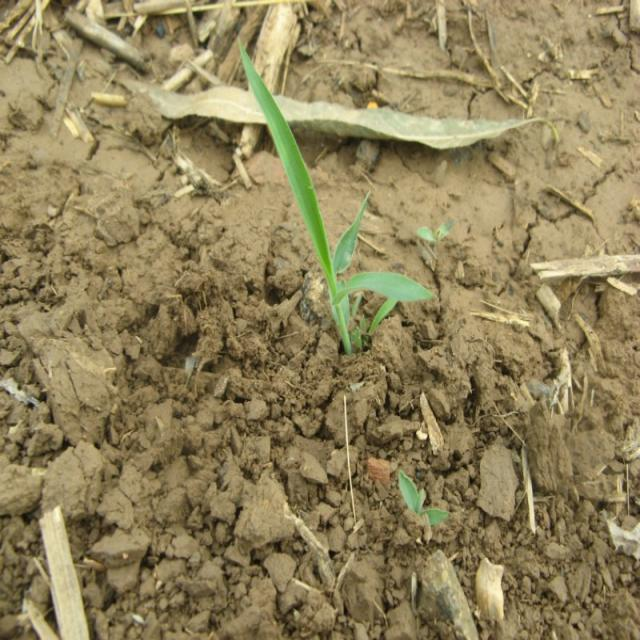bg: (234, 41, 438, 354)
